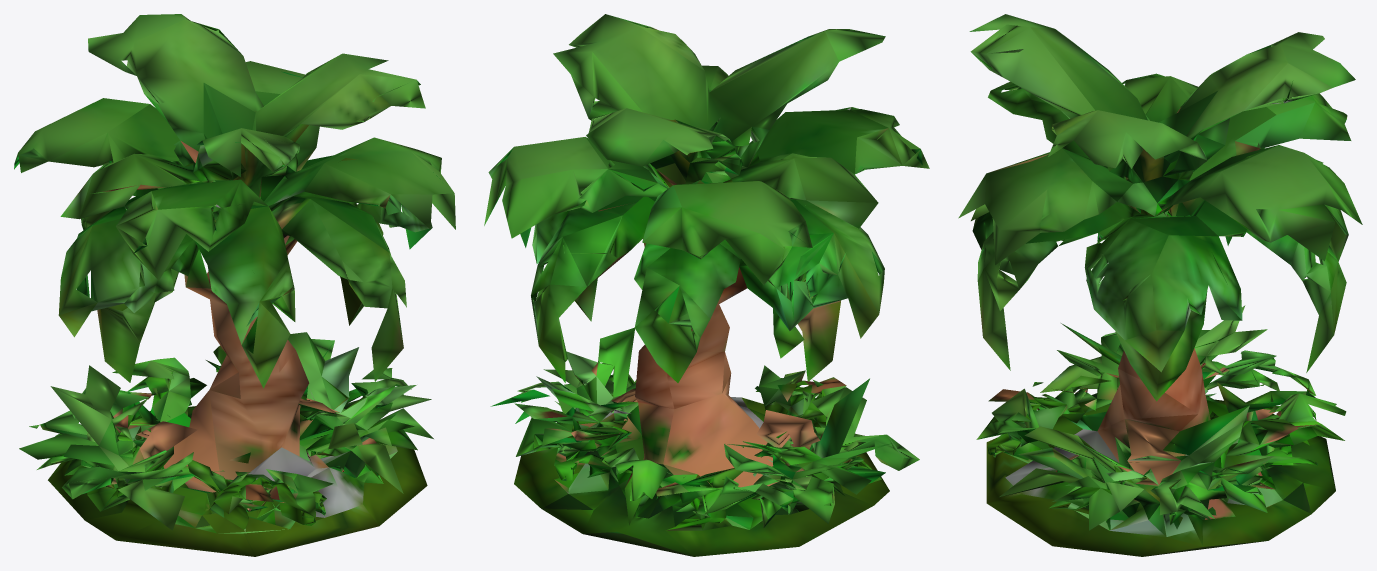
Rendered from palm_tree.glb.
3 renders of one model, left to right at view 1: azimuth 30°, elevation 25°; view 2: azimuth 150°, elevation 25°; view 3: azimuth 270°, elevation 25°, orthographic.
Parts seen in each view (by area): view 1: tmp8sif6diu.ply; view 2: tmp8sif6diu.ply; view 3: tmp8sif6diu.ply.
Part boxes in pixels (x1,y1,x2,y2): tmp8sif6diu.ply: [14, 14, 455, 556]; tmp8sif6diu.ply: [484, 14, 929, 556]; tmp8sif6diu.ply: [958, 14, 1362, 556].
Size of the model in its own units: 1.9 by 2 by 1.74.
Materials: 1 (1 with a texture image).
